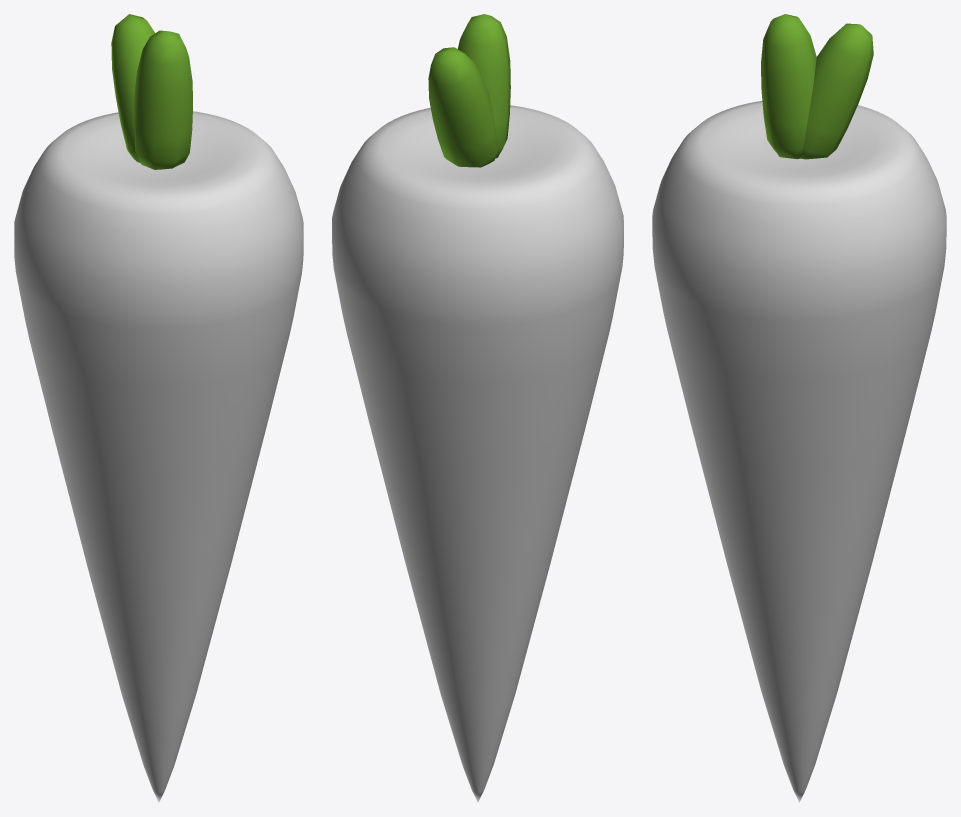
File: vegi1.fbx
3 renders of one model, left to right at view 1: azimuth 30°, elevation 25°; view 2: azimuth 150°, elevation 25°; view 3: azimuth 270°, elevation 25°, orthographic.
Parts seen in each view (by area): view 1: Plane.002; view 2: Plane.002; view 3: Plane.002.
Part boxes in pixels (left/top/right/bottom): Plane.002: left=14, top=14, right=303, bottom=802; Plane.002: left=332, top=14, right=623, bottom=802; Plane.002: left=652, top=14, right=946, bottom=802.
Bounding box in the file's own units: 216 × 639 × 216.
